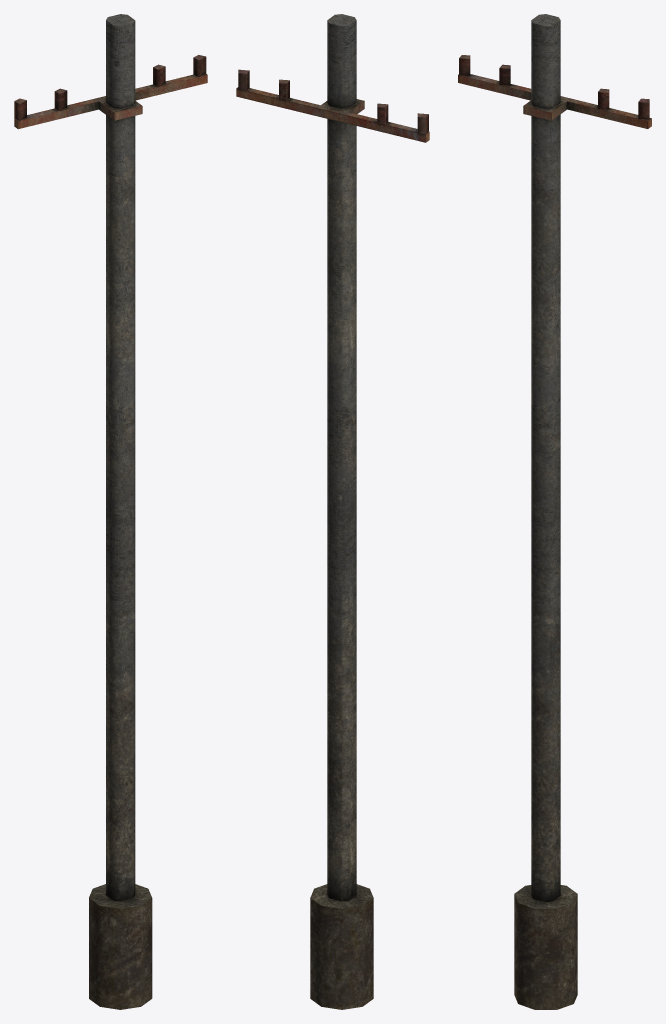
Rendered from UtilityPole_02.FBX.
3 views of the same model, side by side, from view 1: azimuth 30°, elevation 25°; view 2: azimuth 150°, elevation 25°; view 3: azimuth 330°, elevation 25° (orthographic).
Parts seen in each view (by area): view 1: UtilityPole_02; view 2: UtilityPole_02; view 3: UtilityPole_02.
Part boxes in pixels (<box>): UtilityPole_02: <box>14,14,207,1009</box>; UtilityPole_02: <box>236,14,429,1009</box>; UtilityPole_02: <box>458,14,651,1009</box>.
Bounding box in the file's own units: 68.5 × 337 × 19.81.
